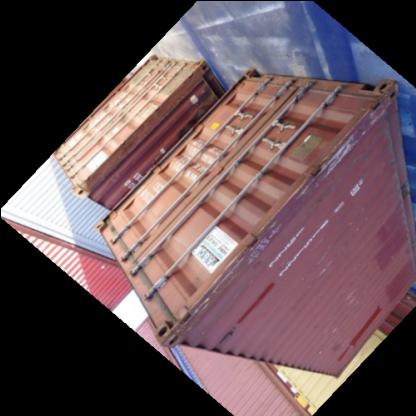Damage: (171, 292, 216, 342), (314, 133, 366, 176), (212, 258, 247, 292), (308, 253, 332, 284), (304, 348, 326, 363), (326, 321, 344, 337), (338, 290, 358, 304)
